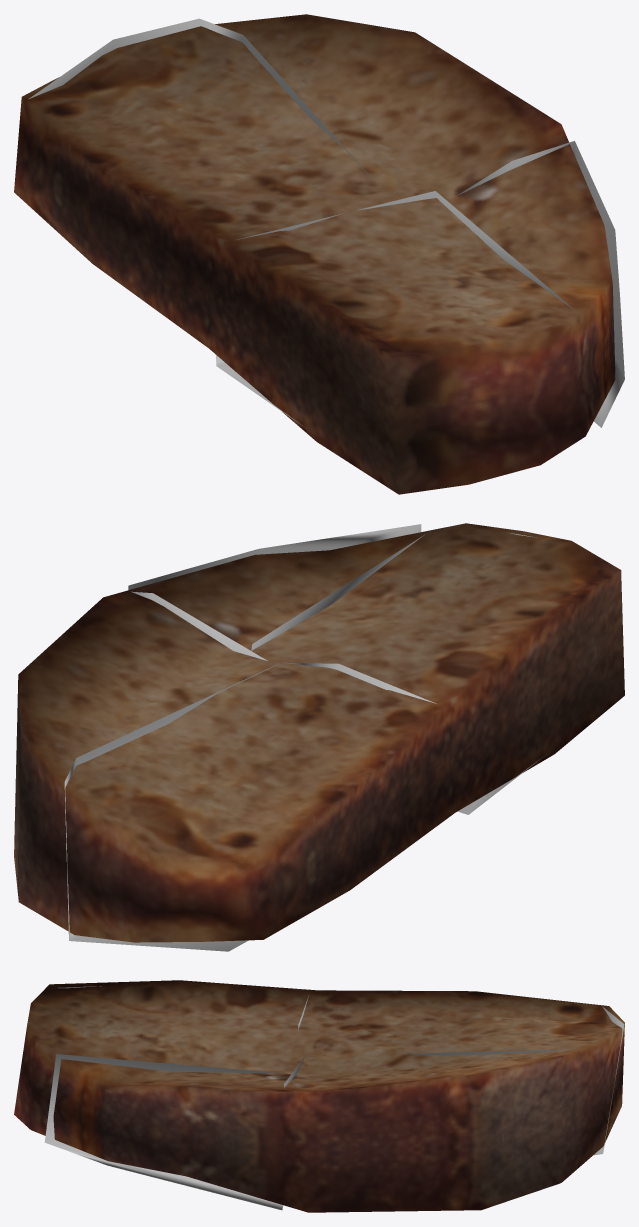
Rendered from SM_Bread_Slice.gltf.
3 renders of one model, top to bottom at view 1: azimuth 30°, elevation 25°; view 2: azimuth 150°, elevation 25°; view 3: azimuth 270°, elevation 25°, orthographic. The views are drawn at different scales.
Parts seen in each view (by area): view 1: SM_Bread_Slice_LOD0, SM_Bread_Slice_ConvexHulls; view 2: SM_Bread_Slice_LOD0, SM_Bread_Slice_ConvexHulls; view 3: SM_Bread_Slice_LOD0, SM_Bread_Slice_ConvexHulls.
Boxes of the visible parts, box(x1,y1,x2,y2) form: SM_Bread_Slice_LOD0: box(14, 14, 615, 494); SM_Bread_Slice_ConvexHulls: box(28, 18, 624, 428); SM_Bread_Slice_LOD0: box(14, 523, 624, 942); SM_Bread_Slice_ConvexHulls: box(64, 524, 546, 951); SM_Bread_Slice_LOD0: box(14, 980, 624, 1212); SM_Bread_Slice_ConvexHulls: box(44, 986, 624, 1210).
Size of what is drawn, in the model's own units: 0.1967 by 0.0968 by 0.3972.
